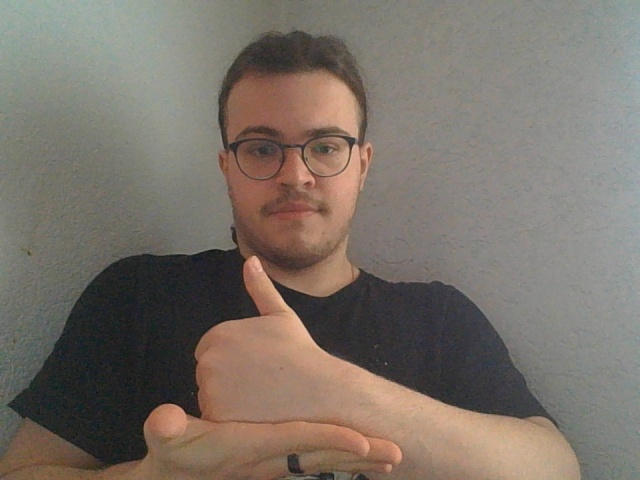Help: (140, 255, 404, 480)
